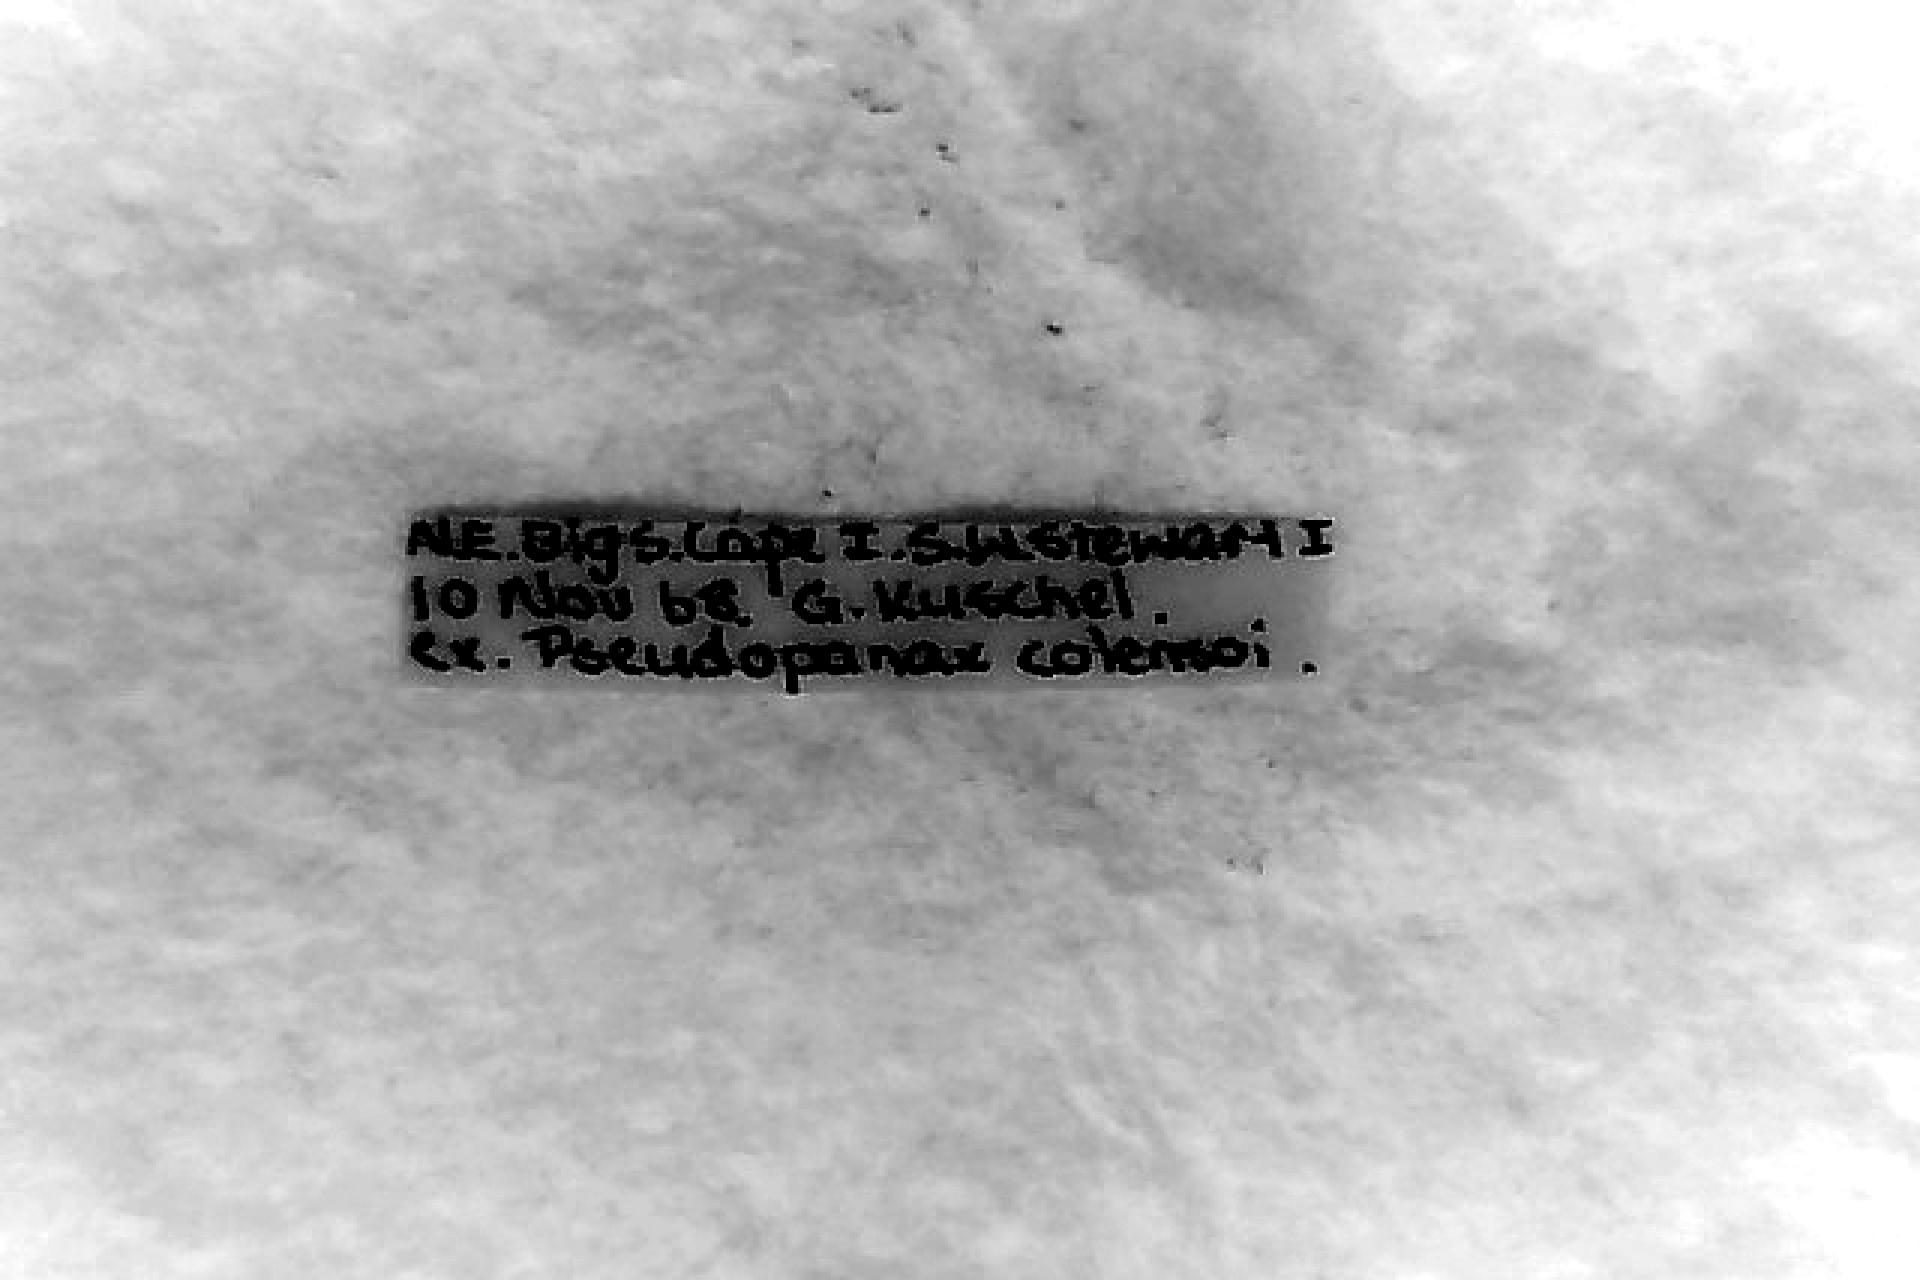hand_label: (409, 513, 1331, 692)
